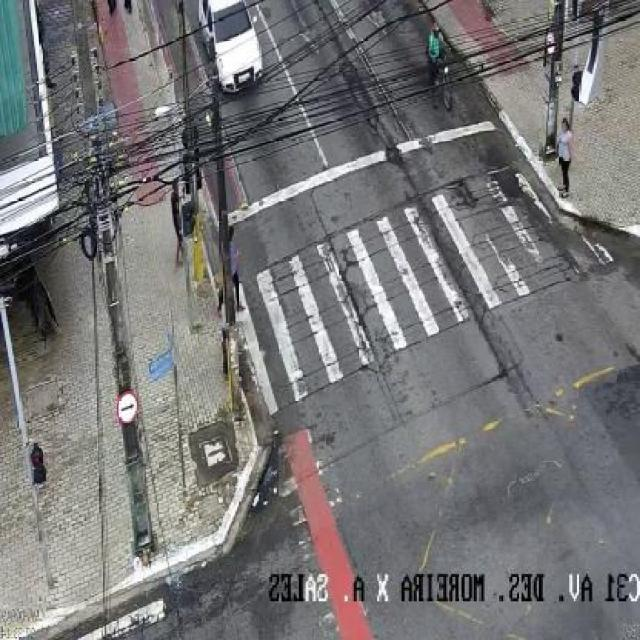Car: (197, 0, 264, 103)
Cycle: (425, 20, 459, 121)
